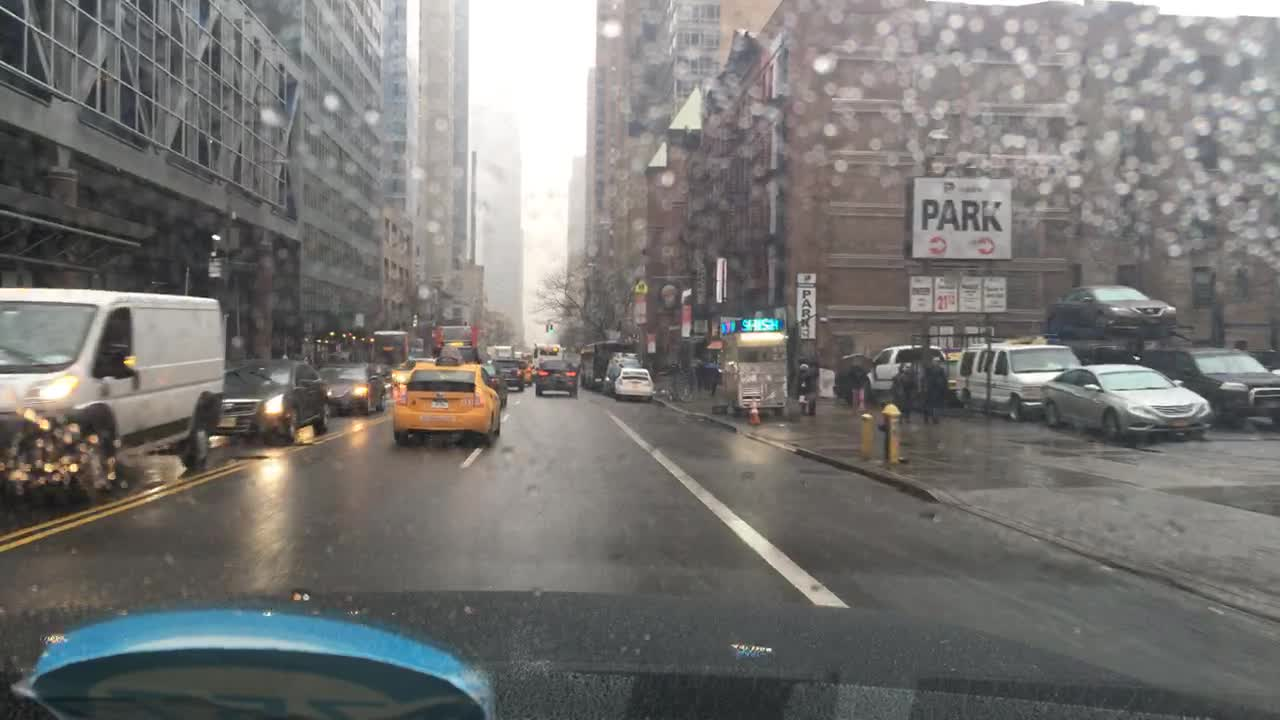bus: (371, 328, 424, 359), (535, 341, 562, 366)
car: (0, 287, 226, 497), (1041, 363, 1209, 443), (1145, 342, 1277, 429), (388, 361, 500, 449), (215, 361, 329, 447), (969, 344, 1077, 420), (1041, 282, 1180, 333), (320, 363, 390, 421), (951, 341, 1002, 408), (531, 359, 579, 405), (613, 364, 654, 405), (437, 335, 478, 363), (494, 355, 527, 386)
person: (864, 346, 946, 402), (923, 353, 951, 429), (892, 363, 916, 427), (797, 360, 820, 418), (850, 361, 868, 416)
traffic light: (577, 339, 631, 390)
traffic sign: (634, 275, 648, 293)
